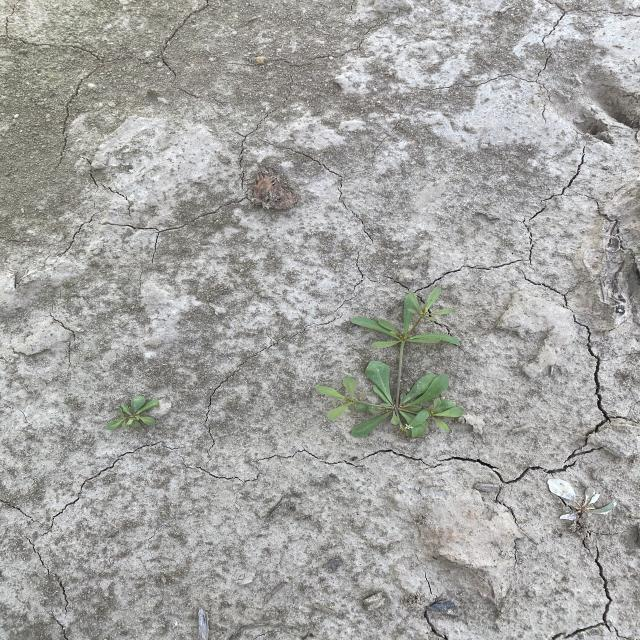Carpetweed: (313, 283, 468, 440), (104, 394, 162, 433)
